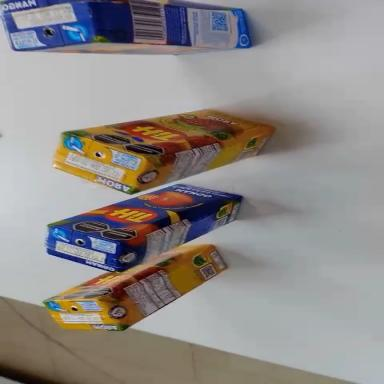HIT-MANGO: (40, 165, 252, 292), (2, 0, 252, 54)
HIT-MORA: (46, 83, 281, 210), (42, 226, 234, 356)
cara_F: (64, 85, 274, 176), (48, 168, 246, 262), (42, 223, 212, 323), (19, 39, 246, 61)
